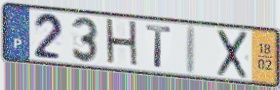2: (31, 10, 66, 63)
3: (70, 15, 101, 65)
H: (104, 17, 141, 71)
I: (183, 23, 198, 77)
T: (144, 23, 173, 70)
X: (215, 28, 250, 81)
